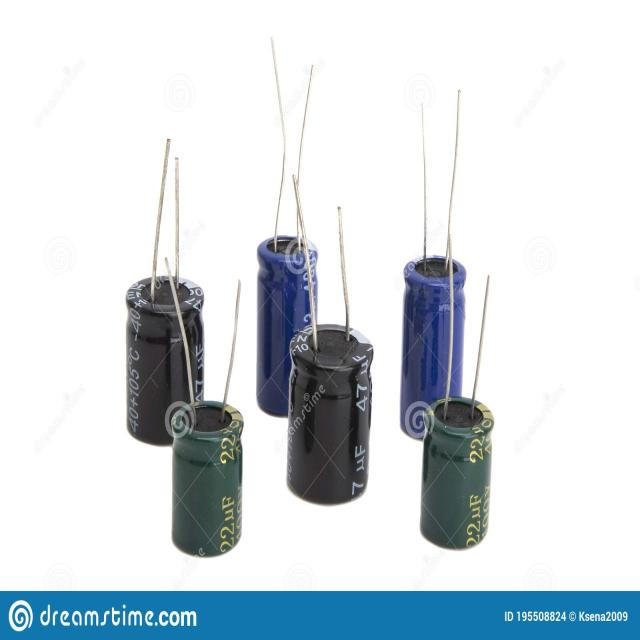capacitor: (288, 174, 374, 505), (126, 140, 207, 446), (164, 257, 246, 558), (420, 232, 494, 548), (400, 89, 467, 438), (258, 36, 318, 414)
